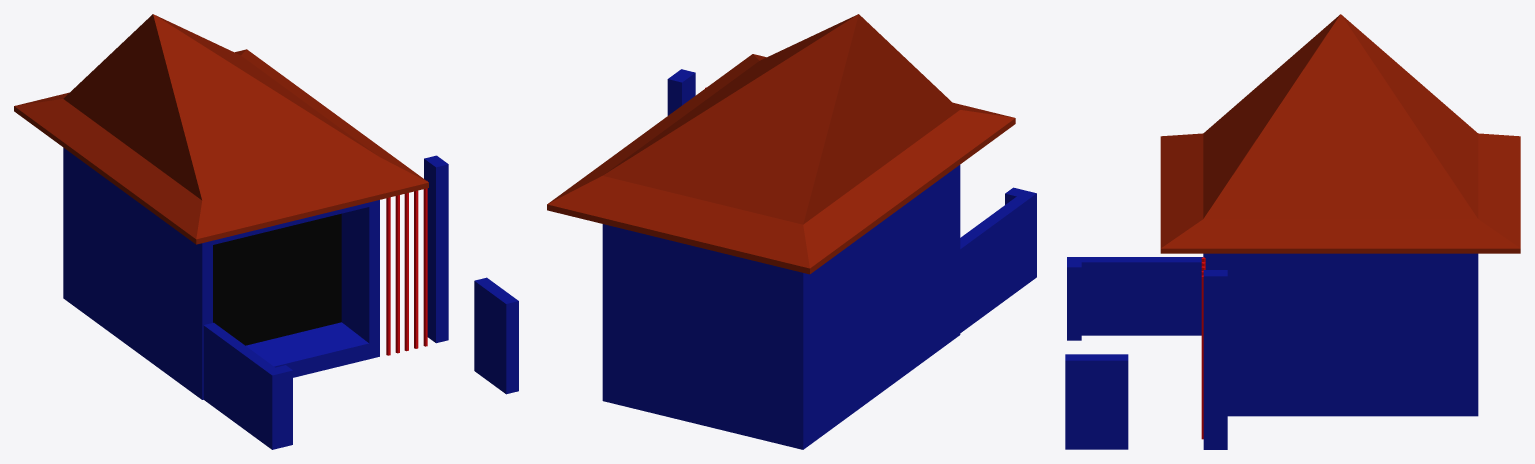
The model's file is loja_3.fbx.
The picture shows the model from 3 angles, left to right: view 1: azimuth 30°, elevation 25°; view 2: azimuth 150°, elevation 25°; view 3: azimuth 270°, elevation 25°; orthographic projection. The views are drawn at different scales.
Parts seen in each view (by area): view 1: Cube; view 2: Cube; view 3: Cube.
Boxes of the visible parts, box(x1,y1,x2,y2) form: Cube: box(14, 14, 518, 449); Cube: box(547, 14, 1036, 449); Cube: box(1065, 14, 1520, 449).
Bounding box in the file's own units: 1397 × 1610 × 2034.
